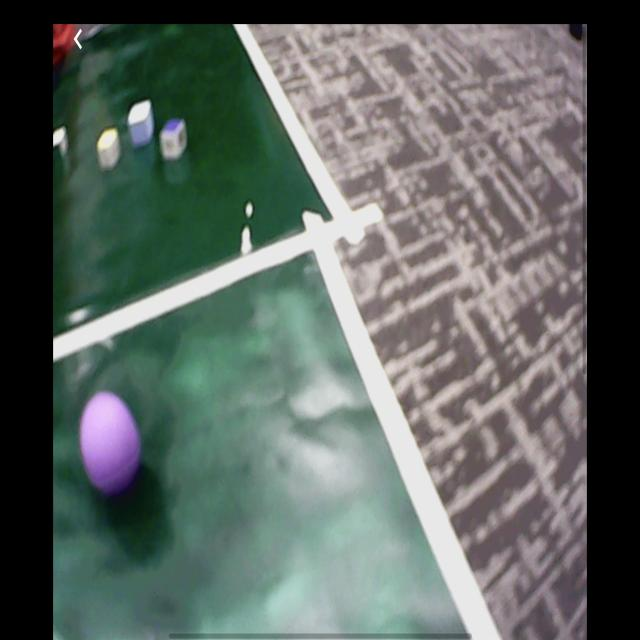ball: (80, 393, 144, 494)
